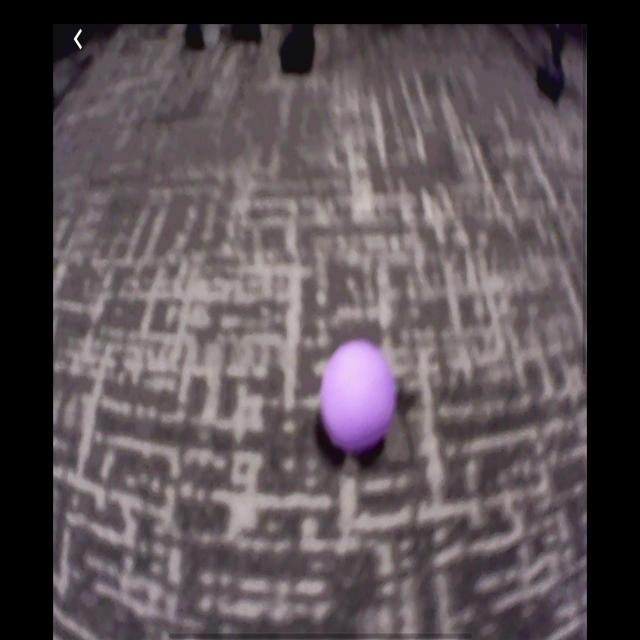ball: (321, 342, 395, 449)
